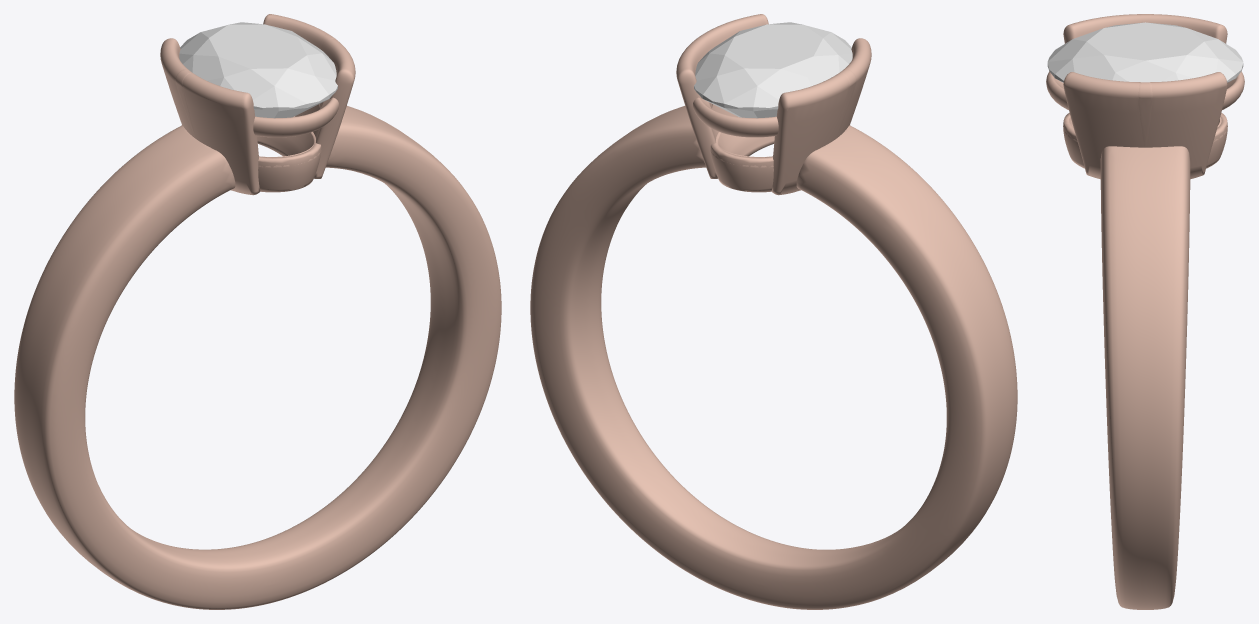
File: diamond-oval-rosegold-halfmoonbezel-straighttaperedband-nosidestones.glb
The picture shows the model from 3 angles, left to right: view 1: azimuth 30°, elevation 25°; view 2: azimuth 150°, elevation 25°; view 3: azimuth 270°, elevation 25°; orthographic projection.
Visible parts, largest first — view 1: metal, stone; view 2: metal, stone; view 3: metal, stone.
Part boxes in pixels (<box>): metal: <box>14,14,501,609</box>; stone: <box>179,22,337,118</box>; metal: <box>530,14,1017,609</box>; stone: <box>694,22,852,118</box>; metal: <box>1046,14,1244,609</box>; stone: <box>1047,22,1243,82</box>.
Bounding box in the file's own units: 20.51 × 23.41 × 7.75.
